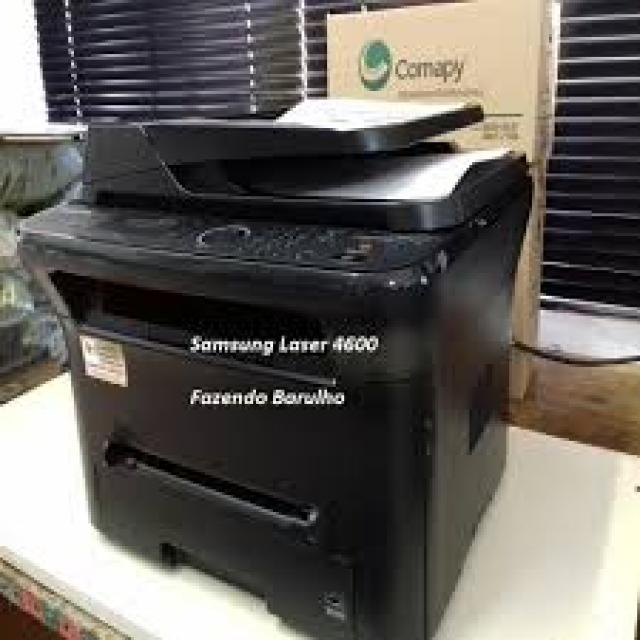printer: (14, 94, 535, 640)
